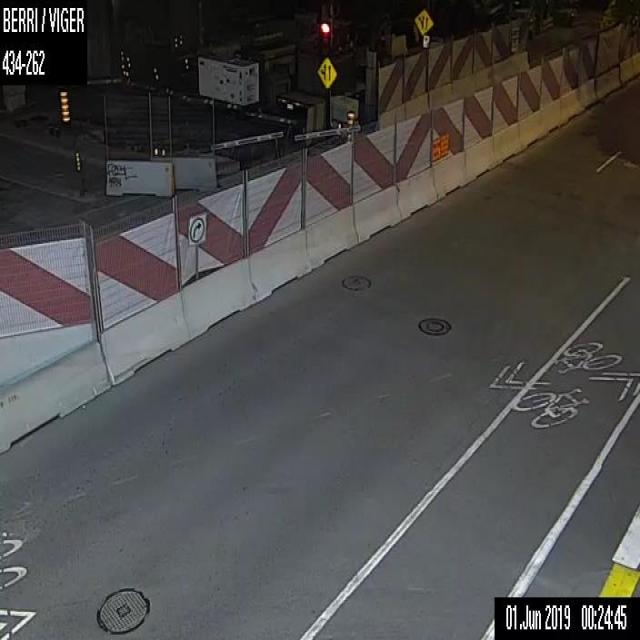construction: (60, 87, 68, 124), (120, 45, 129, 75), (75, 150, 81, 190), (173, 30, 181, 46), (154, 65, 159, 83), (184, 56, 188, 76)
